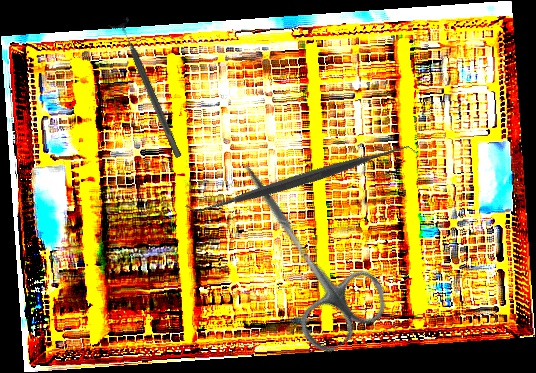Fixation Ring: (107, 16, 190, 162)
Iris Scissors: (204, 140, 398, 360)
Spatula Surgical: (185, 62, 417, 296)
